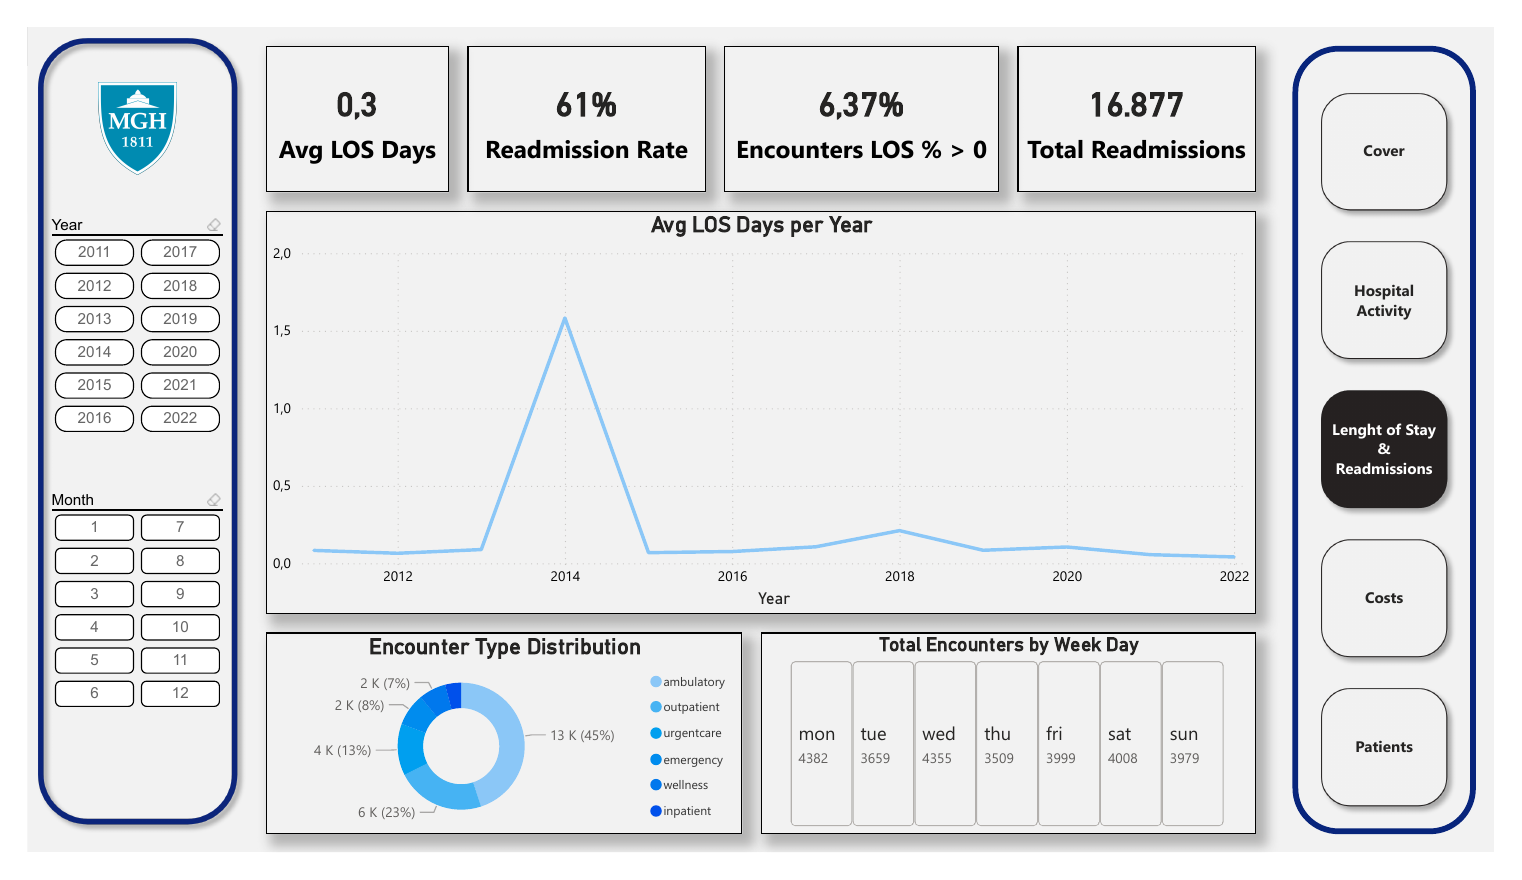

This screenshot's page, from the dashboard's own definition file:
{"tool":"powerbi","page":{"name":"Lenght of Stay & Readmissions","canvas":[1280,720],"ordinal":2},"visuals":[{"type":"shape","box":[0,0,192,704],"z":0},{"type":"shape","box":[1104,16,160,688],"z":1000},{"type":"image","box":[48,48,96,80],"z":2000},{"type":"pageNavigator","box":[1120,48,128,640],"z":3000},{"type":"lineChart","title":"Avg LOS Days per Year","fields":{"Category":["DIM_Date.Year"],"Y":["MEASURES_.AVG_LOS_DAYS"]},"box":[208,160,864,352],"z":4000},{"type":"card","fields":{"Values":["MEASURES_.AVG_LOS_DAYS"]},"box":[208,16,160,128],"z":5000},{"type":"card","fields":{"Values":["MEASURES_.READMISSION_RATE"]},"box":[384,16,208,128],"z":6000},{"type":"card","fields":{"Values":["Medidas.Encounters LOS % > 0"]},"box":[608,16,240,128],"z":7000},{"type":"donutChart","title":"Encounter Type Distribution","fields":{"Category":["FCT_Encounters.ENCOUNTERCLASS"],"Y":["MEASURES_.Total Encounters"]},"box":[208,528,416,176],"z":8000},{"type":"card","title":"(≤ 30 days)","fields":{"Values":["MEASURES_.TOTAL_READMISSIONS"]},"box":[864,16,208,128],"z":10000},{"type":"ChicletSlicer1448559807354","fields":{"Category":["DIM_Date.Year"]},"box":[16,160,160,224],"z":11000},{"type":"ChicletSlicer1448559807354","fields":{"Category":["DIM_Date.Month"]},"box":[16,400,160,208],"z":12000},{"type":"advancedSlicerVisual","title":"Total Encounters by Week Day","fields":{"Label":["Medidas.Total Encounters"],"Values":["DIM_Date.DayName"]},"box":[640,528,432,176],"z":12001}]}

Visuals, with their boxes in screenshot pixels (x1, y1, x2, y2), scaled from the page's 1280x720 canvas onto the 1522x880 screenshot:
shape: (0,0,228,860)
shape: (1313,20,1503,860)
image: (57,59,171,156)
pageNavigator: (1332,59,1484,841)
"Avg LOS Days per Year" lineChart: (247,196,1275,626)
card - MEASURES_.AVG_LOS_DAYS: (247,20,438,176)
card - MEASURES_.READMISSION_RATE: (457,20,704,176)
card - Medidas.Encounters LOS % > 0: (723,20,1008,176)
"Encounter Type Distribution" donutChart: (247,645,742,860)
"(≤ 30 days)" card: (1027,20,1275,176)
ChicletSlicer1448559807354 - DIM_Date.Year: (19,196,209,469)
ChicletSlicer1448559807354 - DIM_Date.Month: (19,489,209,743)
"Total Encounters by Week Day" advancedSlicerVisual: (761,645,1275,860)
